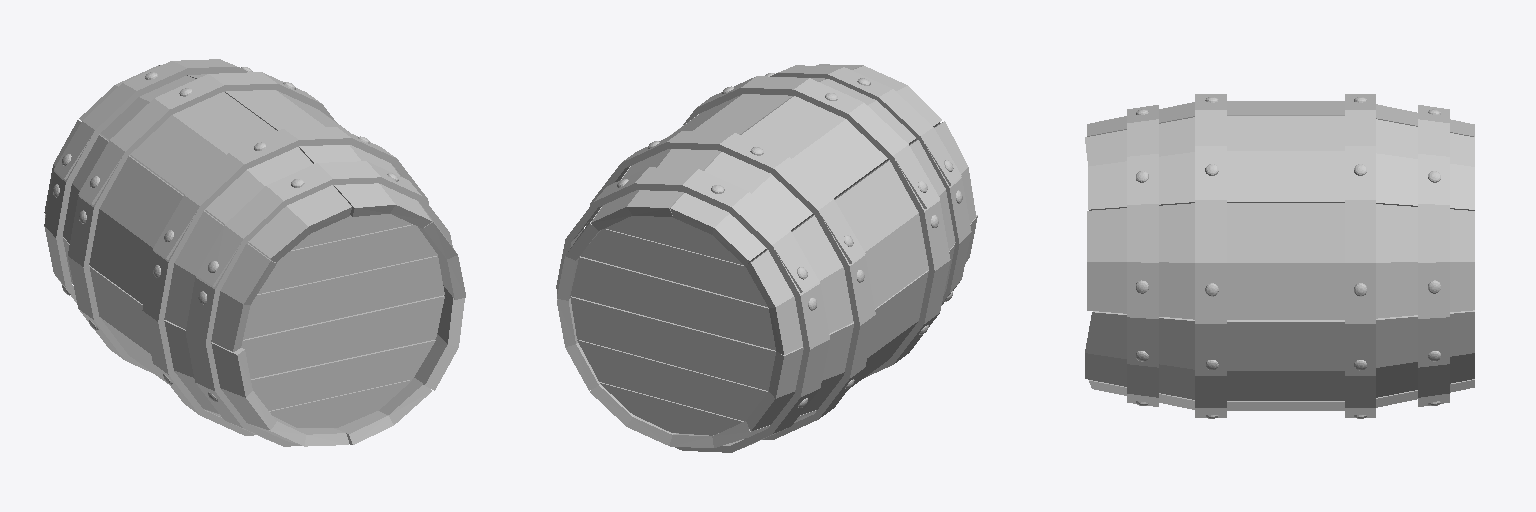
The model's file is Barrel.obj.
3 renders of one model, left to right at view 1: azimuth 30°, elevation 25°; view 2: azimuth 150°, elevation 25°; view 3: azimuth 270°, elevation 25°, orthographic.
Parts seen in each view (by area): view 1: barrel; view 2: barrel; view 3: barrel.
Part boxes in pixels (x1,y1,x2,y2): barrel: (44,59,465,446); barrel: (556,64,977,452); barrel: (1085,94,1474,418).
Bounding box in the file's own units: 0.7611 × 0.7611 × 0.9179.